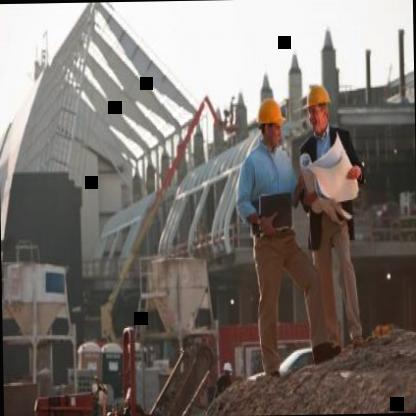helmet: (253, 90, 287, 151), (302, 77, 333, 136)
